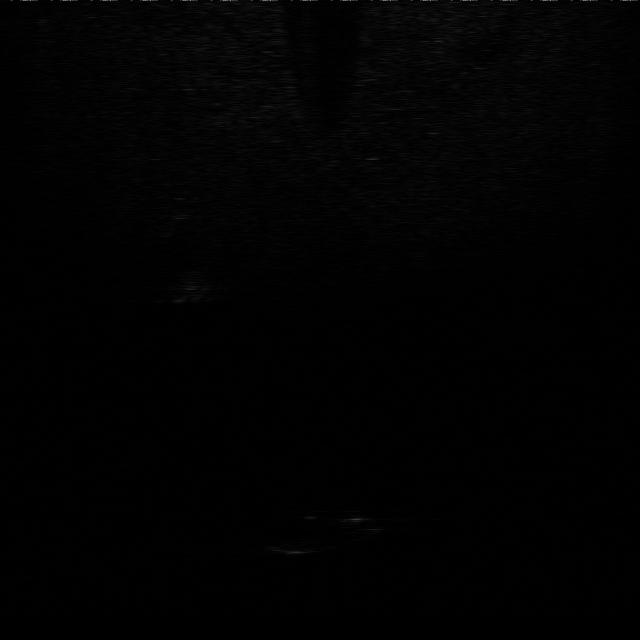ball: (160, 195, 198, 222)
circle cage: (162, 270, 216, 307)
tyre: (256, 495, 394, 559)
